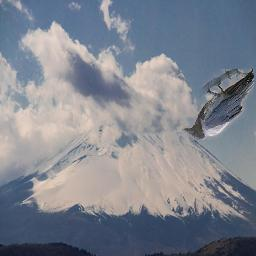Crow: (184, 70, 255, 141)
